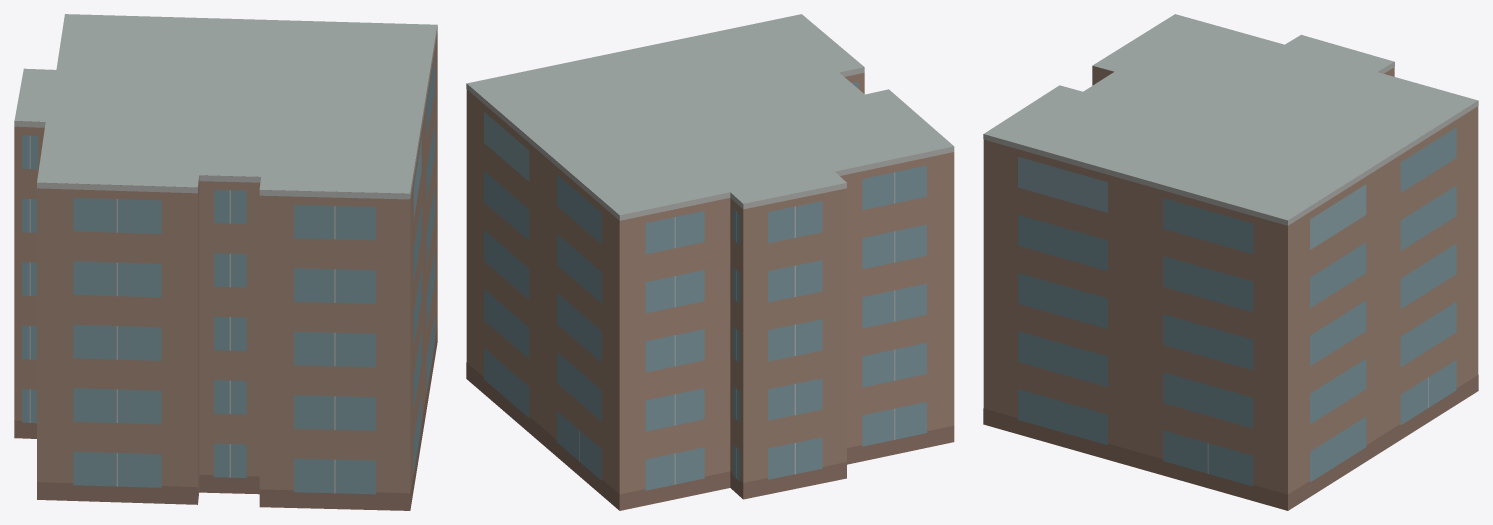
Rendered from survey-upis-32656111.glb.
The picture shows the model from 3 angles, left to right: view 1: azimuth 30°, elevation 25°; view 2: azimuth 150°, elevation 25°; view 3: azimuth 270°, elevation 25°; orthographic projection. The views are drawn at different scales.
Parts seen in each view (by area): view 1: survey-upis-32656111.tmp; view 2: survey-upis-32656111.tmp; view 3: survey-upis-32656111.tmp.
Part boxes in pixels (<box>): survey-upis-32656111.tmp: <box>14,14,437,510</box>; survey-upis-32656111.tmp: <box>466,14,954,510</box>; survey-upis-32656111.tmp: <box>983,14,1478,510</box>.
Bounding box in the file's own units: 20.13 × 13.2 × 20.4.
